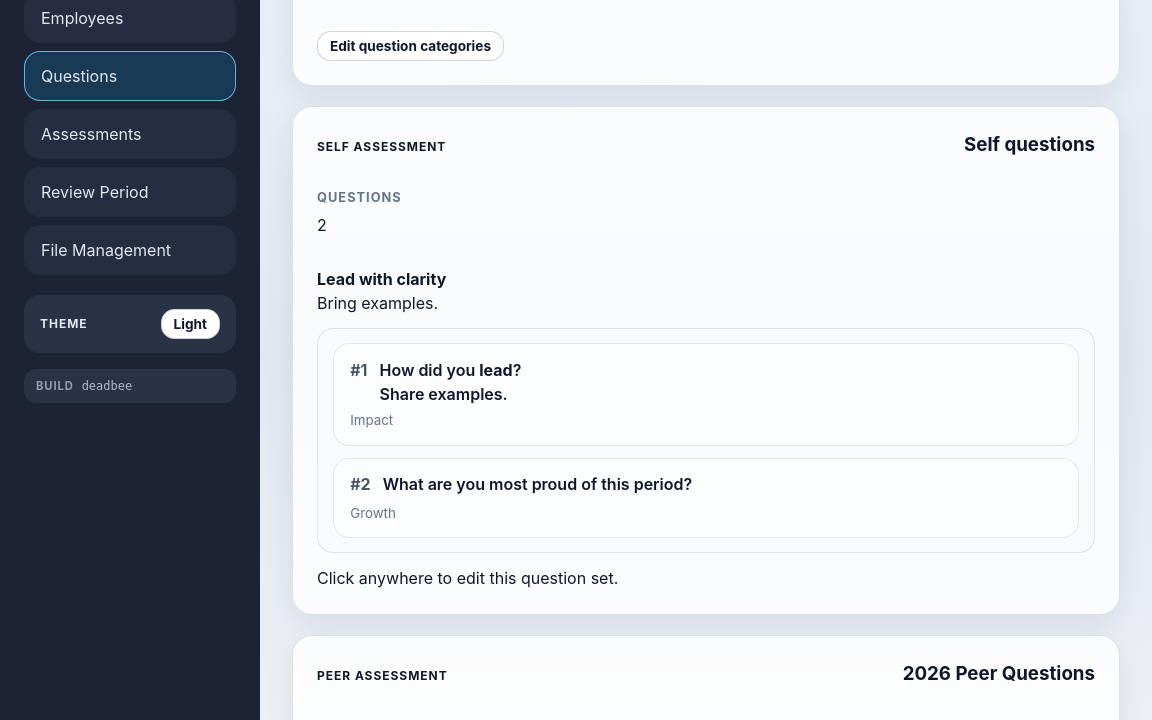
Test: questions screen › resets a question set to a blank draft after confirmation
(page scrolled)
Click the button with aria-label "Edit self assessment question set" at (325, 126), box [292, 106, 1120, 615]
(page scrolled)
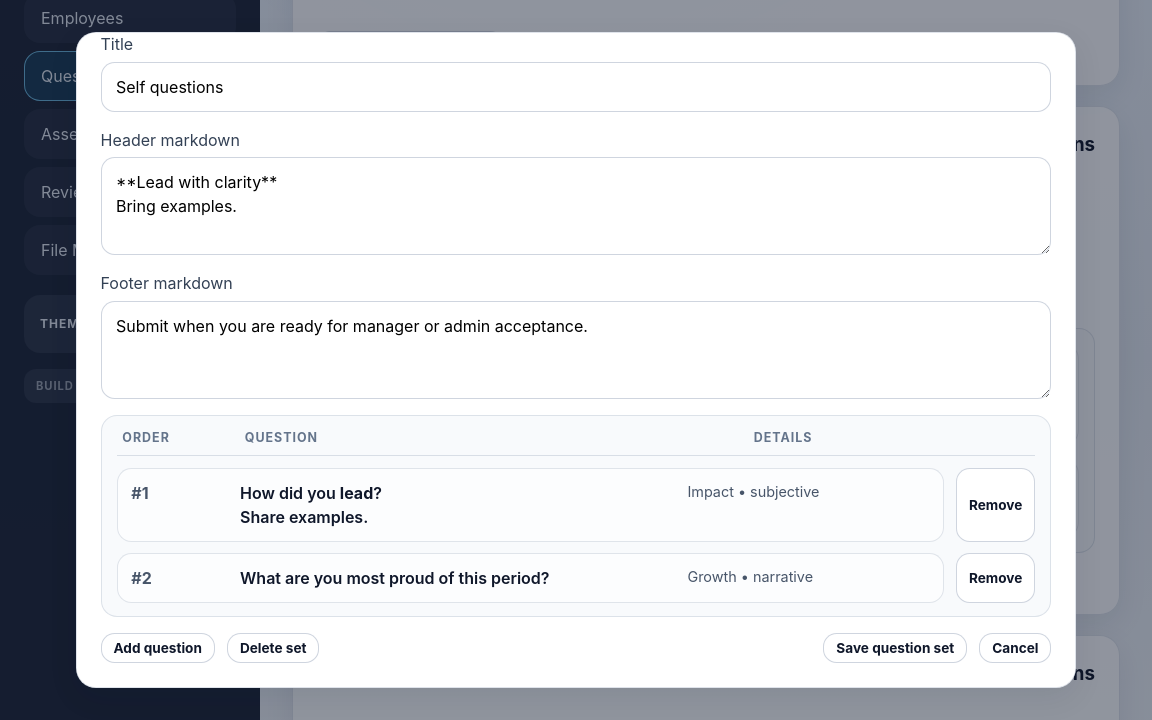
Expected: the dialog is shown
Expected: the button "Delete set" is shown
Click the button "Delete set" at (273, 648), box [227, 633, 320, 663]
(page scrolled)
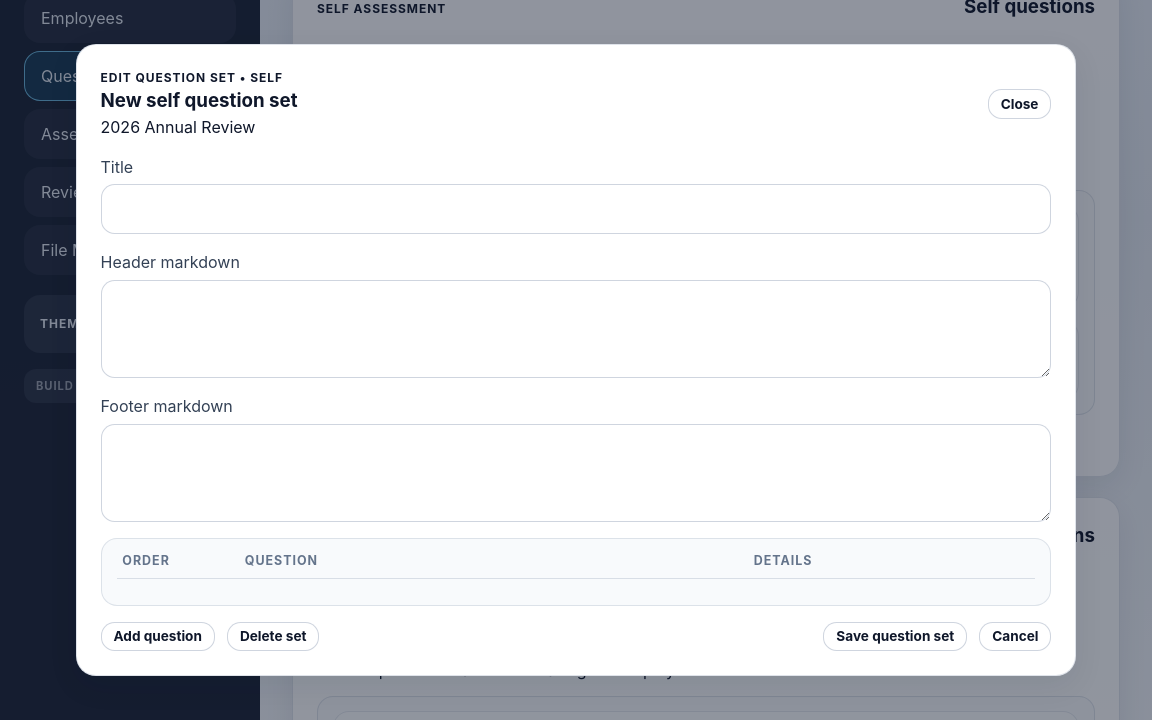
Expected: the dialog shows "New self question set", [100, 89, 298, 112]
Expected: the field labelled "Title" is empty, [100, 184, 1052, 234]
